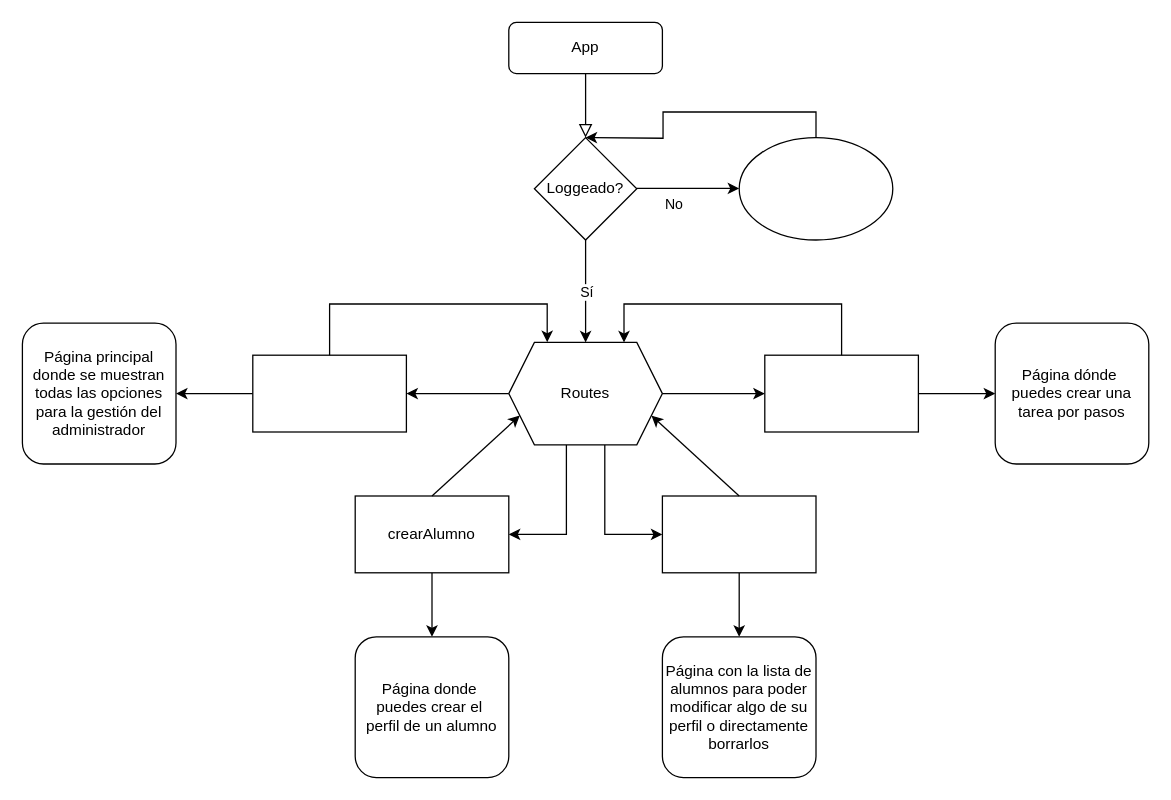
This 1171x800 diagram has some shape labels left out. Here are the shapes that lost their labels. From the top down, the box of each, then its label:
(738, 136, 893, 240): Página de login
(252, 354, 406, 432): gestionarAlumnos
(764, 354, 918, 432): crearTareaSecuencial
(661, 495, 816, 573): mostrarAlumnos
